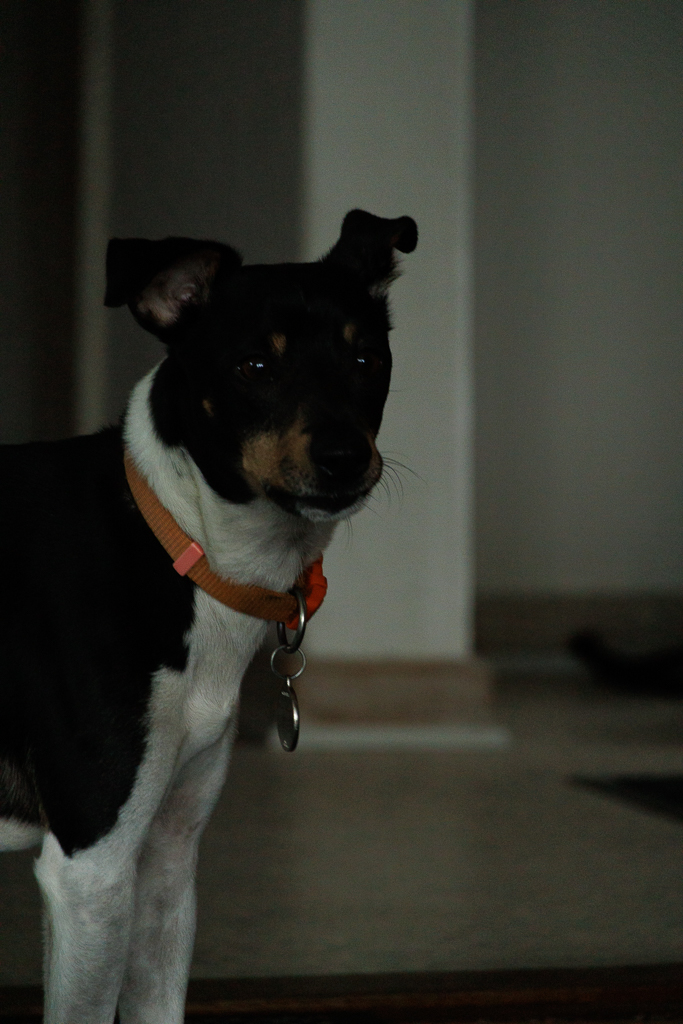Dog: (0, 194, 439, 1024)
